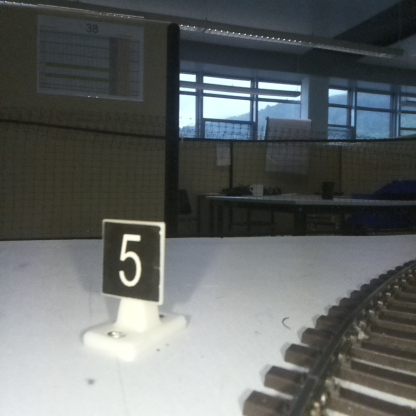black-stop-5: (103, 224, 161, 349)
